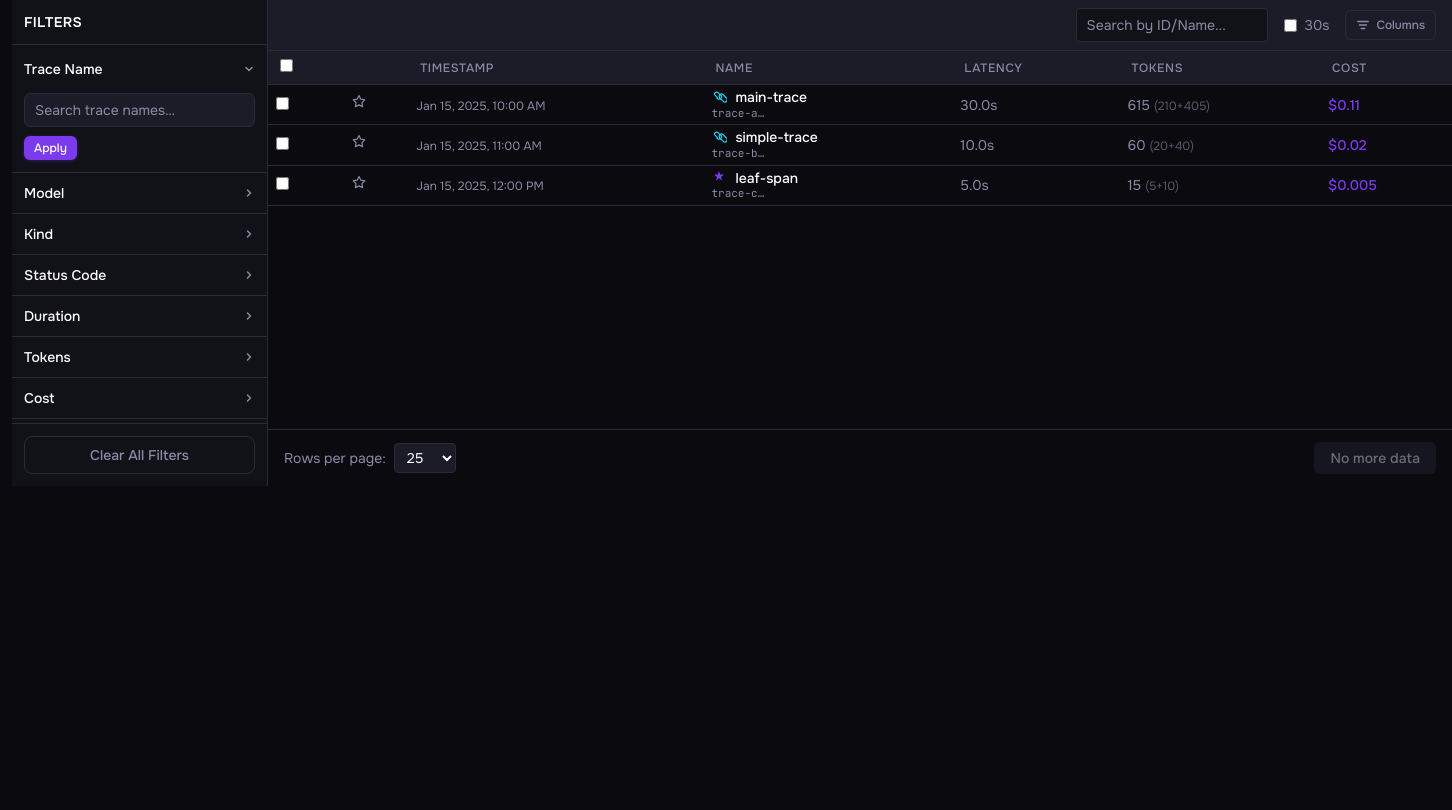
filters › shows checkboxes for distinct models in the project alongside free-text search
Expected: the text "main-trace" is shown, [736,89,807,106]
// Expand the Model filter section
Click the button "Model". click: click(140, 193)
box: [12,173,267,213]
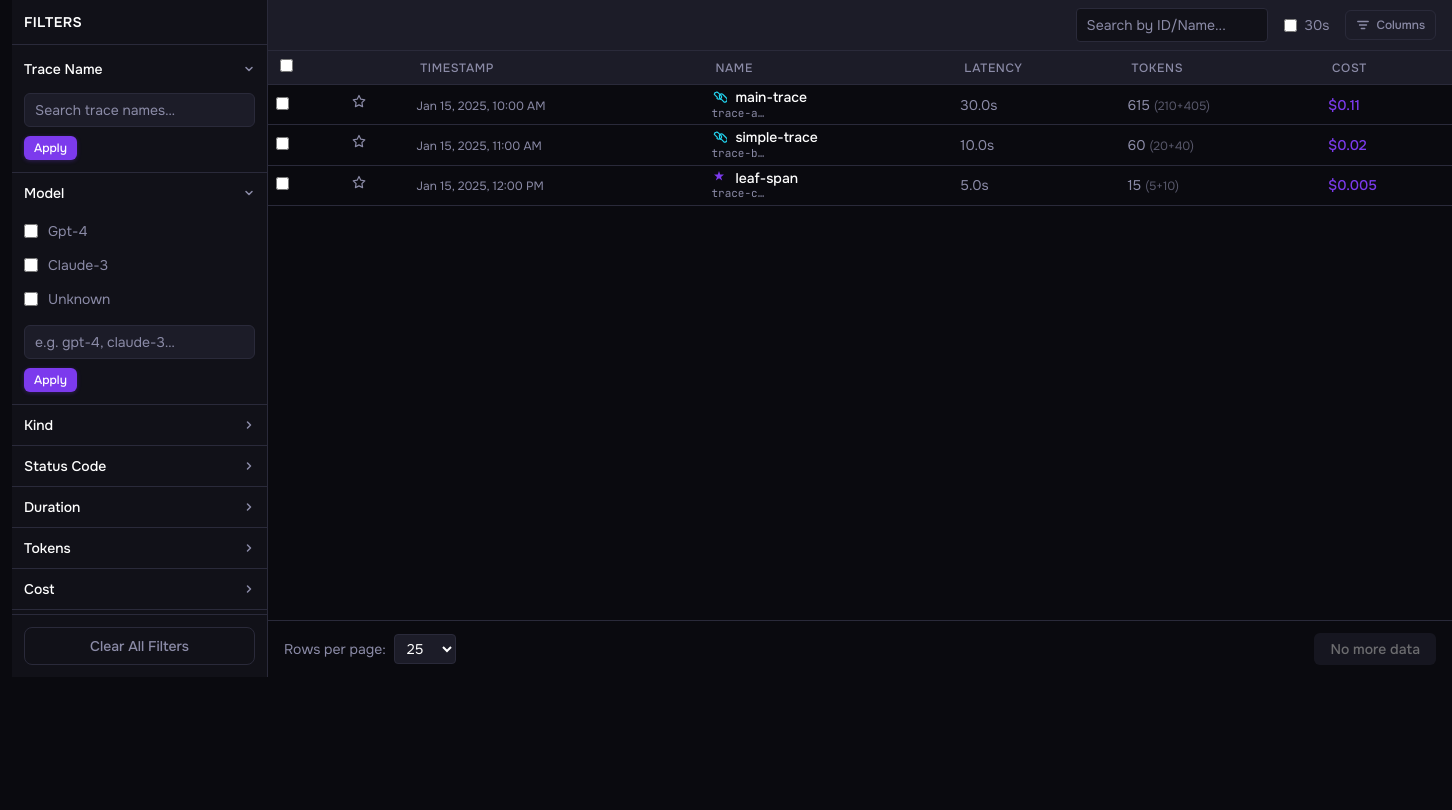
Now the element showing "gpt-4 claude-3 unknown Apply" is shown, box [12,213,267,404]
Now the checkbox labelled "gpt-4" is shown, box [24,224,38,238]
Now the field with placeholder "e.g. gpt-4, claude-3…" is shown, box [24,325,255,359]
